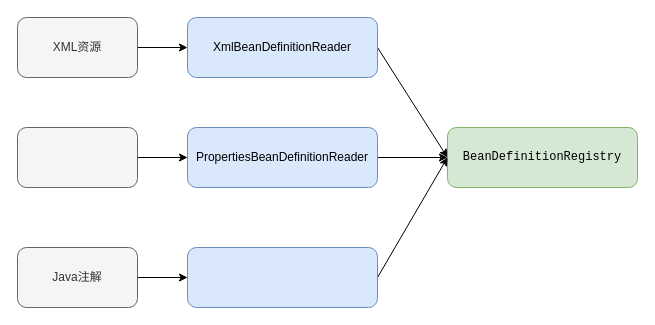
The diagram is 655 pixels wide and 325 high, and some of its shapes have lost their labels. Each missing label, with the box of its shape:
AnnotatedBeanDefinitionReader: (186, 246, 378, 308)
Properties资源: (16, 126, 138, 188)
